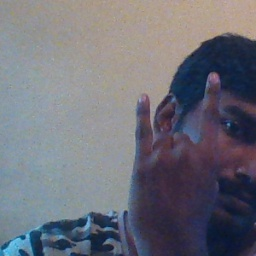V: (125, 67, 228, 237)
